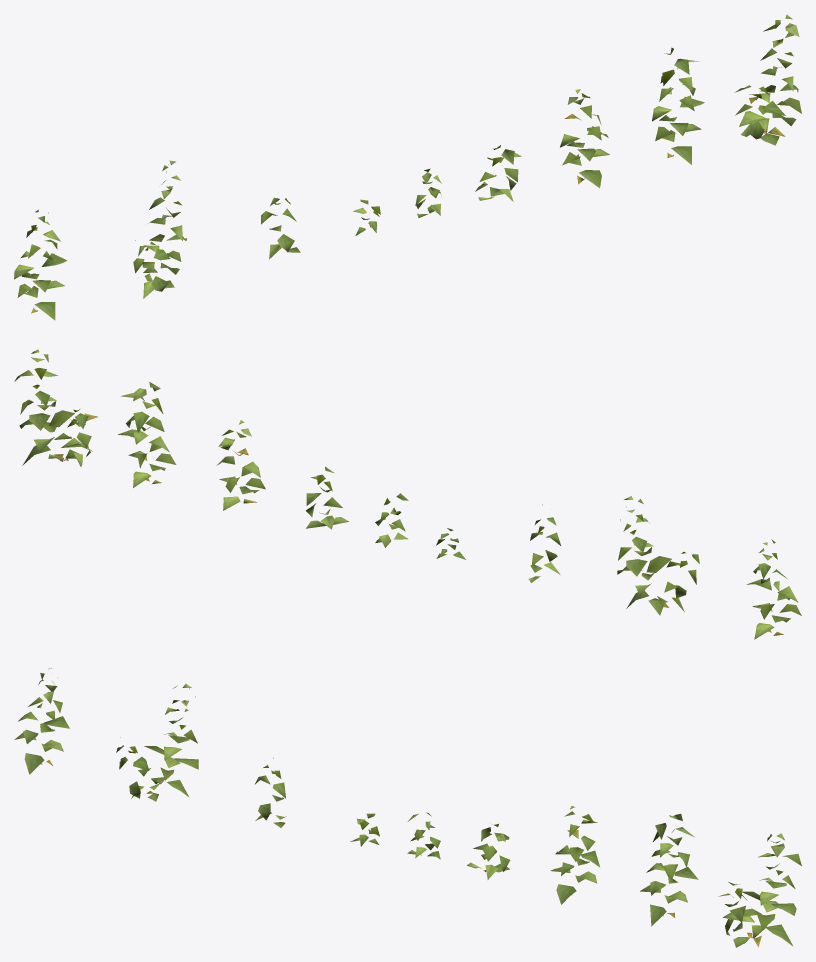
File: shrub_01.lod.glb
3 views of the same model, one above another, from view 1: azimuth 30°, elevation 25°; view 2: azimuth 150°, elevation 25°; view 3: azimuth 330°, elevation 25° (orthographic). The views are drawn at different scales.
Visible parts, largest first — view 1: shrub_01_a; view 2: shrub_01_a; view 3: shrub_01_a.
Boxes of the visible parts, x1,y1,x2,y2 form: shrub_01_a: (14,14,801,320); shrub_01_a: (14,349,801,639); shrub_01_a: (14,668,801,947).
Size of the model in its own units: 2.59 by 0.3677 by 0.205.
1 material, 1 textured.
